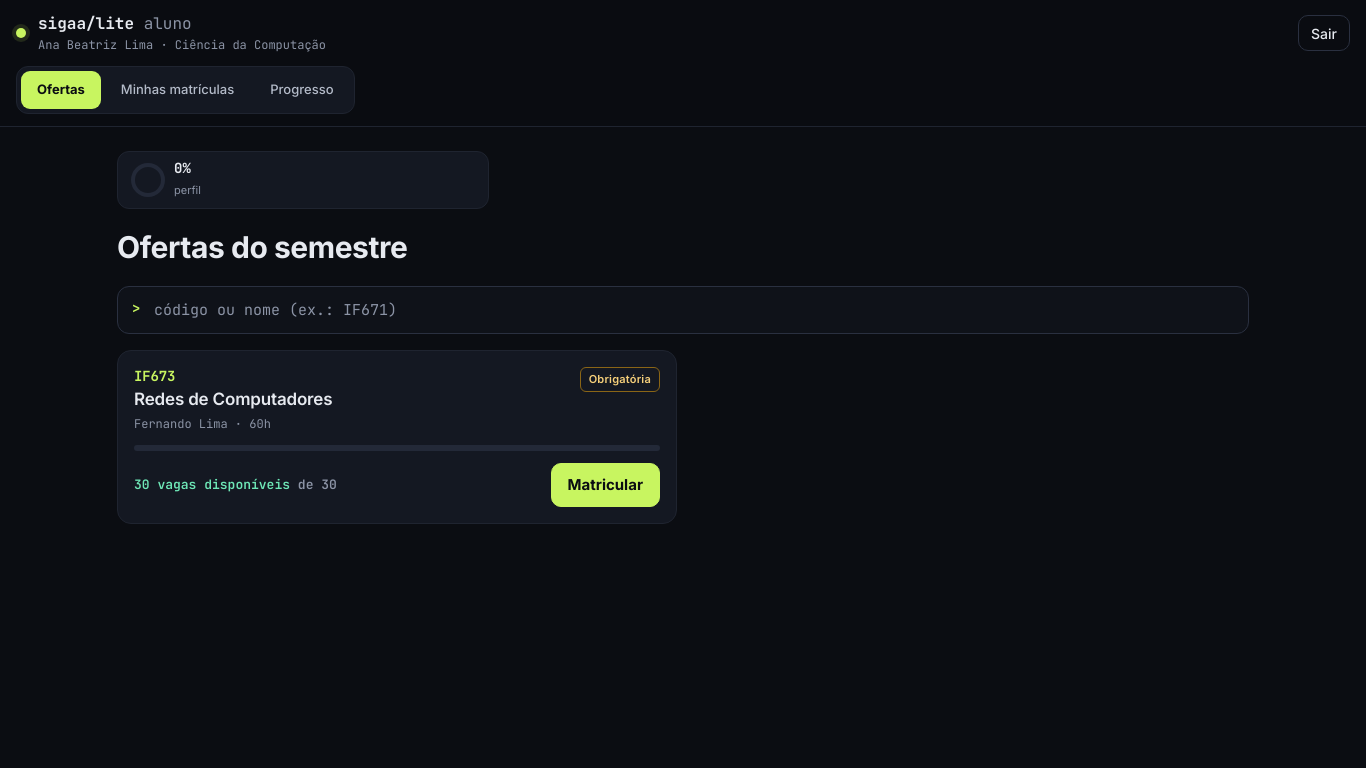
Test: confirmação de matrícula › como conta no progresso › obrigatória diz que conta nas obrigatórias do curso do aluno
Click the button with aria-label "Matricular em IF673" at [605, 485], box [550,463,660,507]
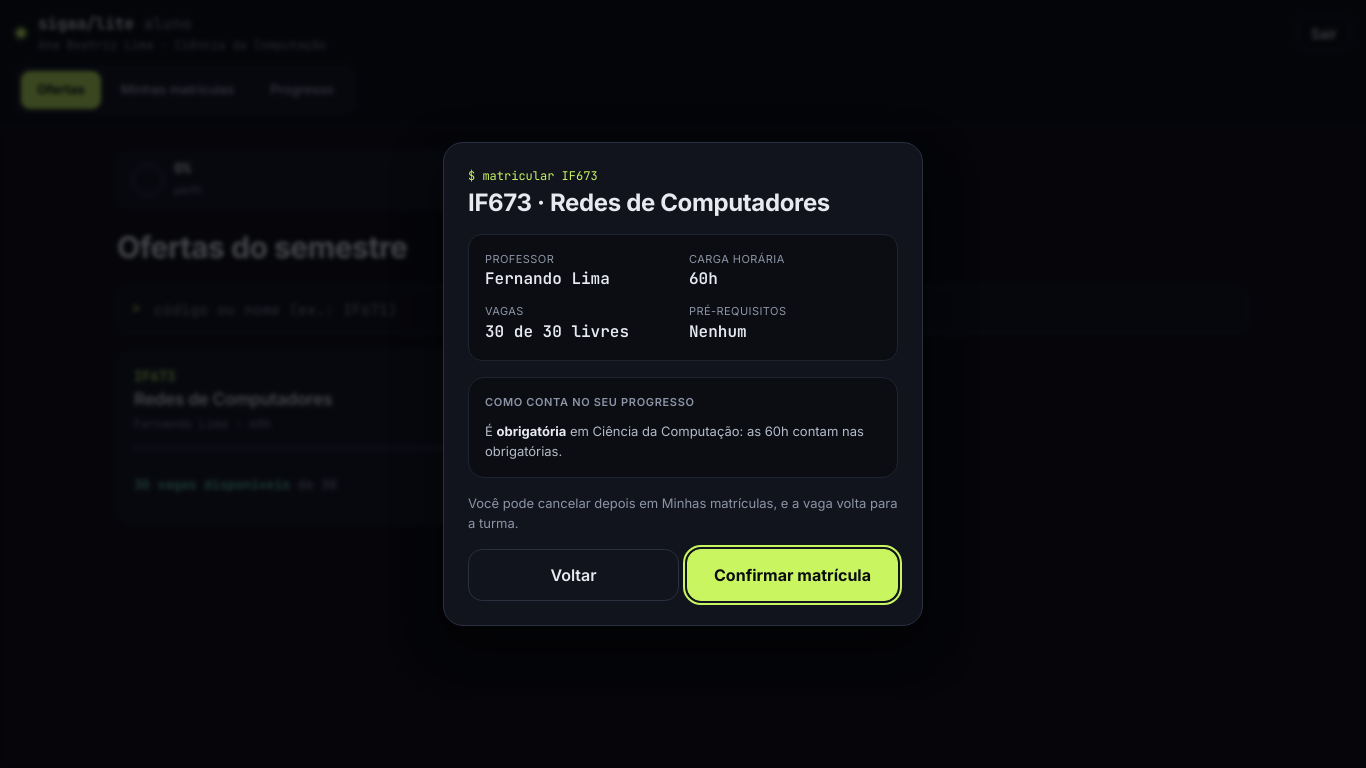
Expected: the element named "Como conta no seu progresso" shows "É obrigatória em Ciência da Computação", [468,377,898,478]
